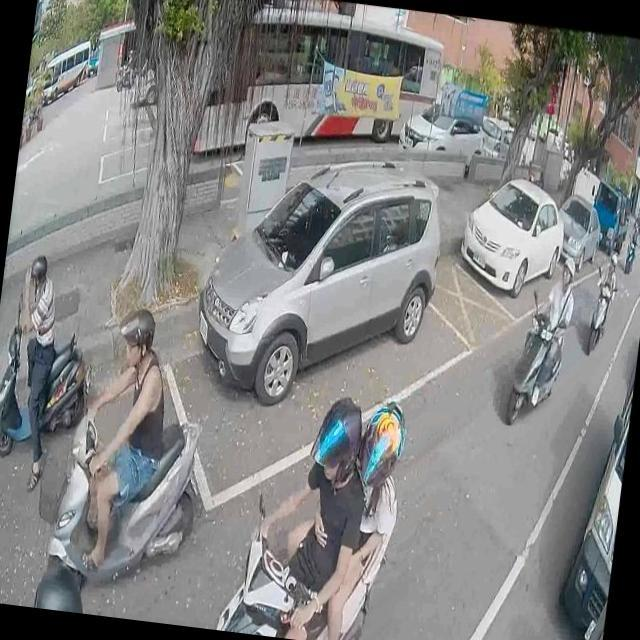person: (272, 388, 411, 640), (235, 393, 374, 640), (62, 305, 178, 586), (0, 250, 71, 491), (514, 246, 582, 414), (31, 558, 90, 612), (586, 253, 620, 344), (628, 223, 638, 247), (124, 48, 132, 76)
